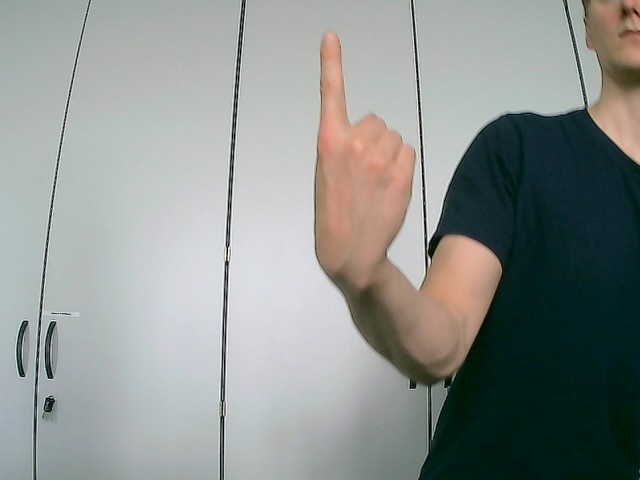up: (312, 30, 417, 290)
